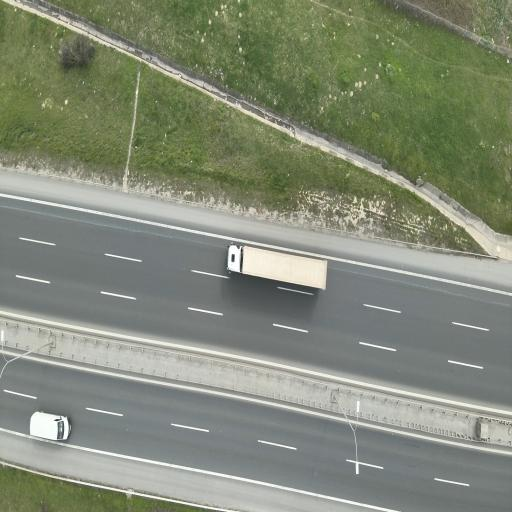car: (228, 245, 327, 289), (30, 412, 70, 440)
